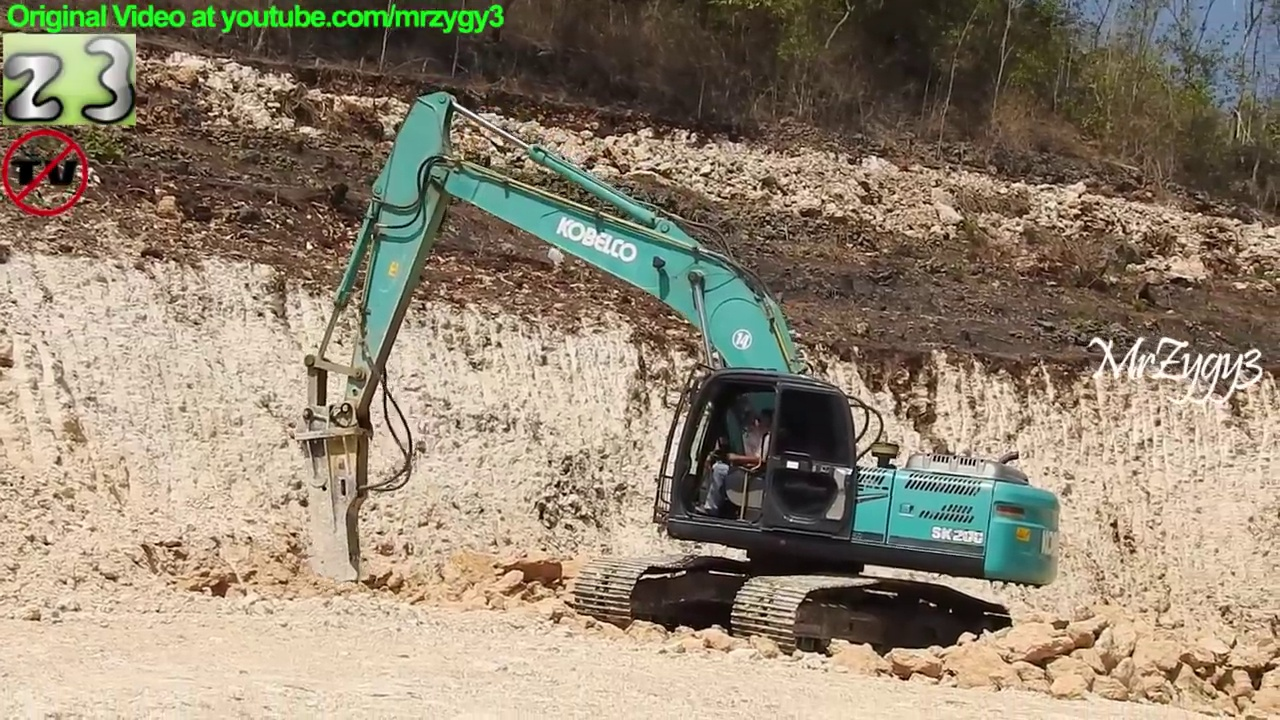excavator breaker: (285, 88, 1069, 683)
